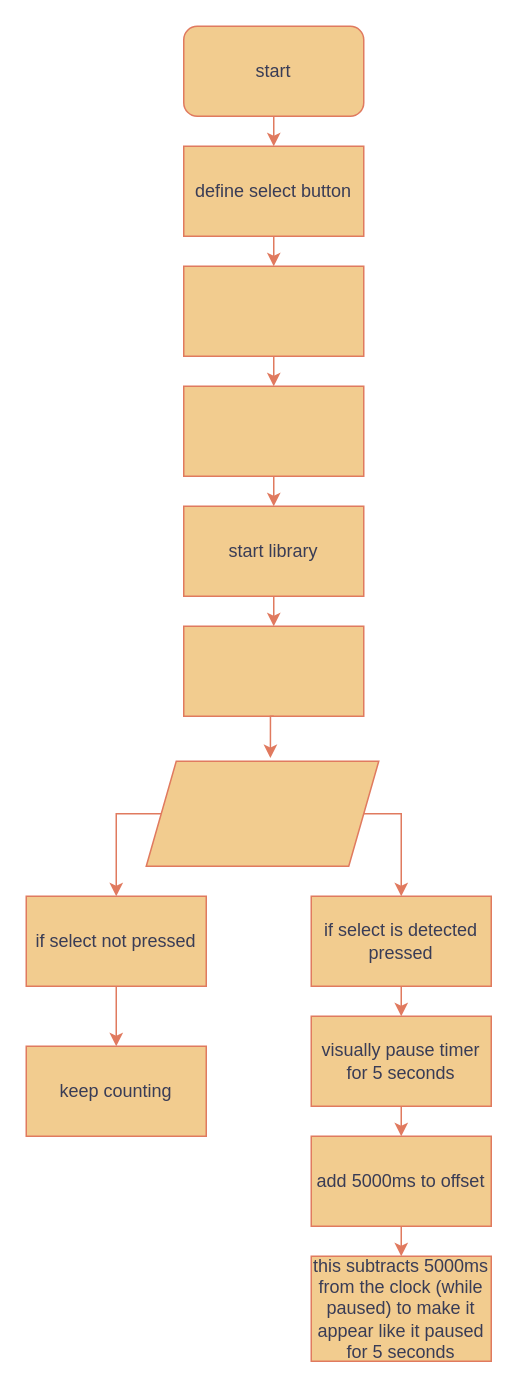
The diagram is 518 pixels wide and 1389 high, and some of its shapes have lost their labels. The shapes that lost their labels are listed below. From the top down, each one's box as (x1, y1, x2, y2) in pixels, then its label:
(182, 265, 364, 356): setup function to read lcd buttons in mv to detect when select button is pressed
(182, 385, 364, 476): set the offset: long m=millis()-offset
(182, 625, 364, 716): start clock
(145, 760, 379, 866): user decides whether or not to press select button
